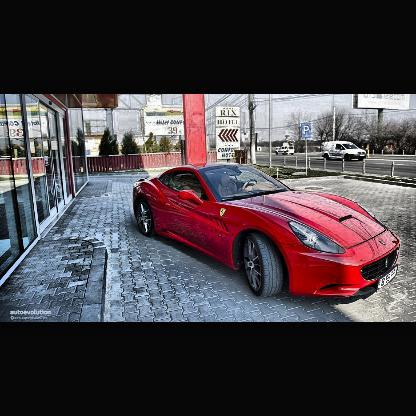Ferrari California Convertible 2012: (135, 162, 400, 308)
